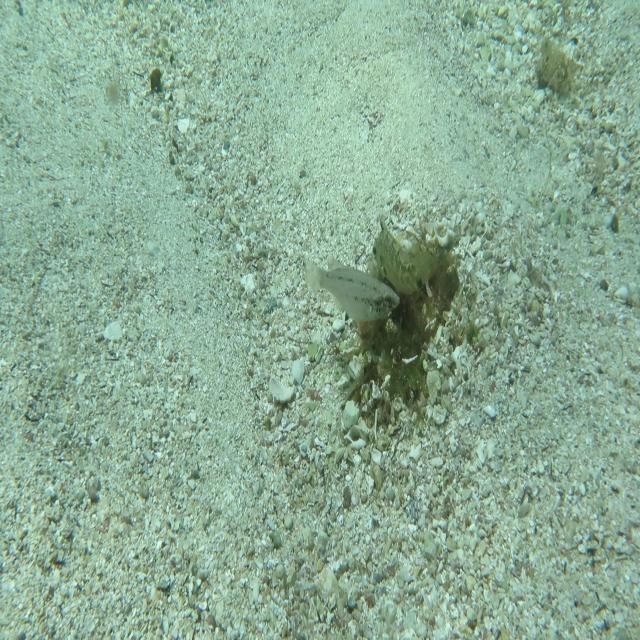BEND_OPP: (371, 214, 437, 300)
female: (304, 251, 400, 325)
nest: (334, 215, 479, 422)
